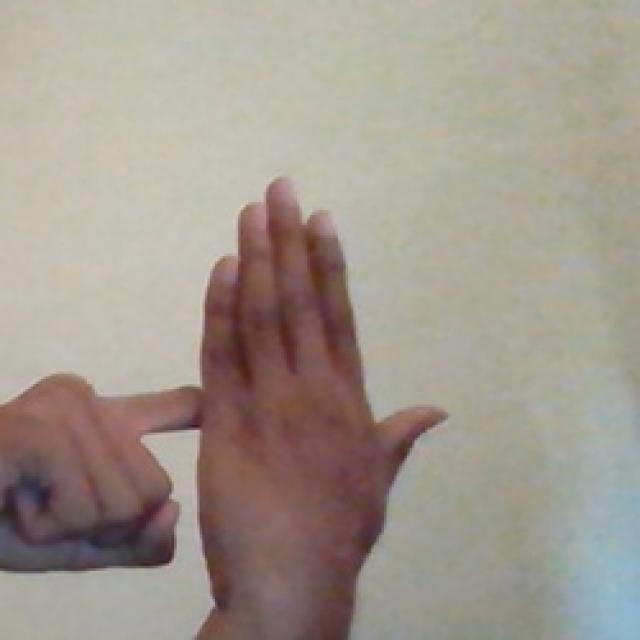Alphabet-R: (0, 164, 463, 640)
